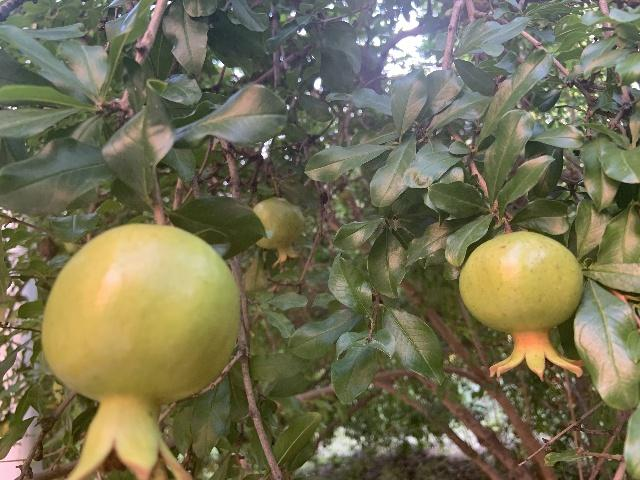mid-growth: (40, 222, 240, 480), (458, 231, 585, 383), (253, 197, 304, 268)
